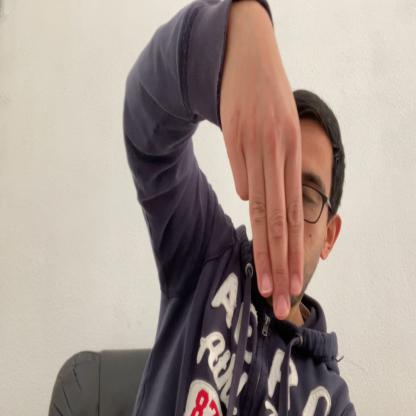M: (222, 2, 304, 320)
